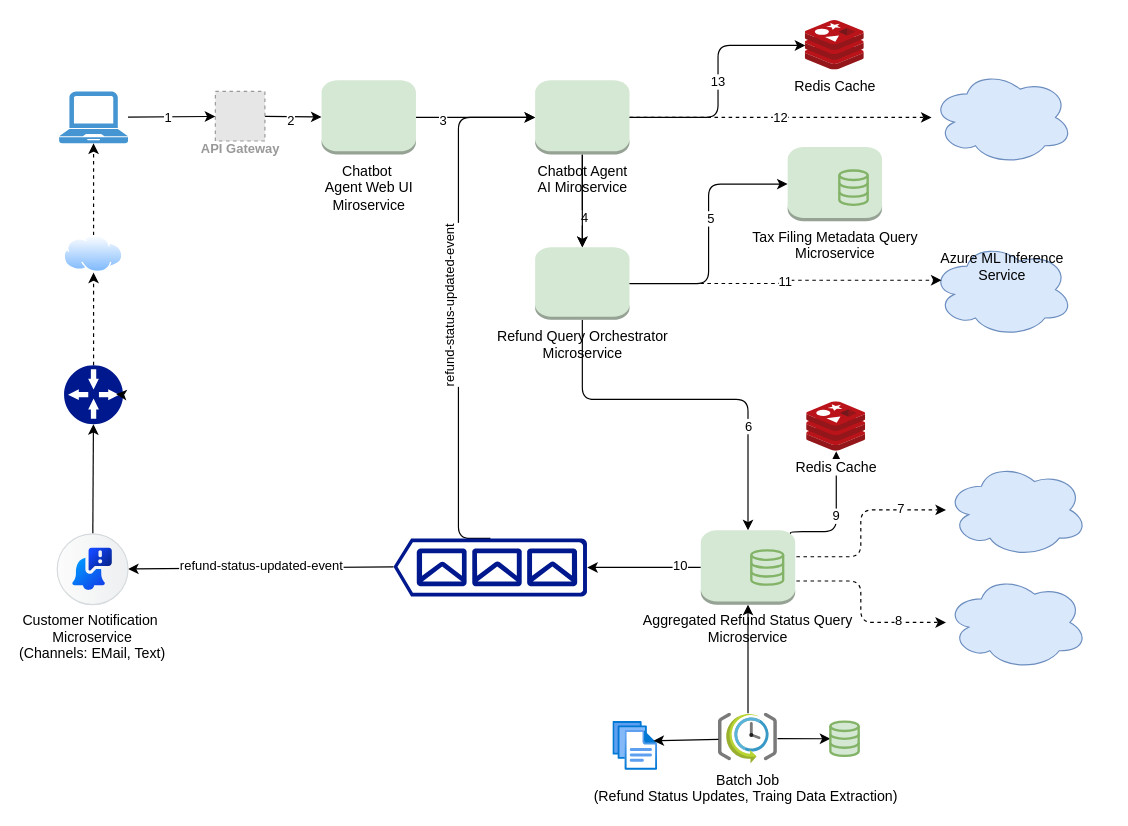
This 1128x826 diagram has some shape labels left out. Grey dashed boxes stand in for pictures. Each missing label, with the centre of its shape:
IRS Income Tax Refund Staus Query Service: point (1016, 509)
Kafka: point (490, 567)
Notification Channel Gateway: point (92, 394)
OpenAI LLM Inference Service: point (1001, 117)
State Income Tax Refund Staus Query Service: point (1016, 622)
User: point (93, 117)
